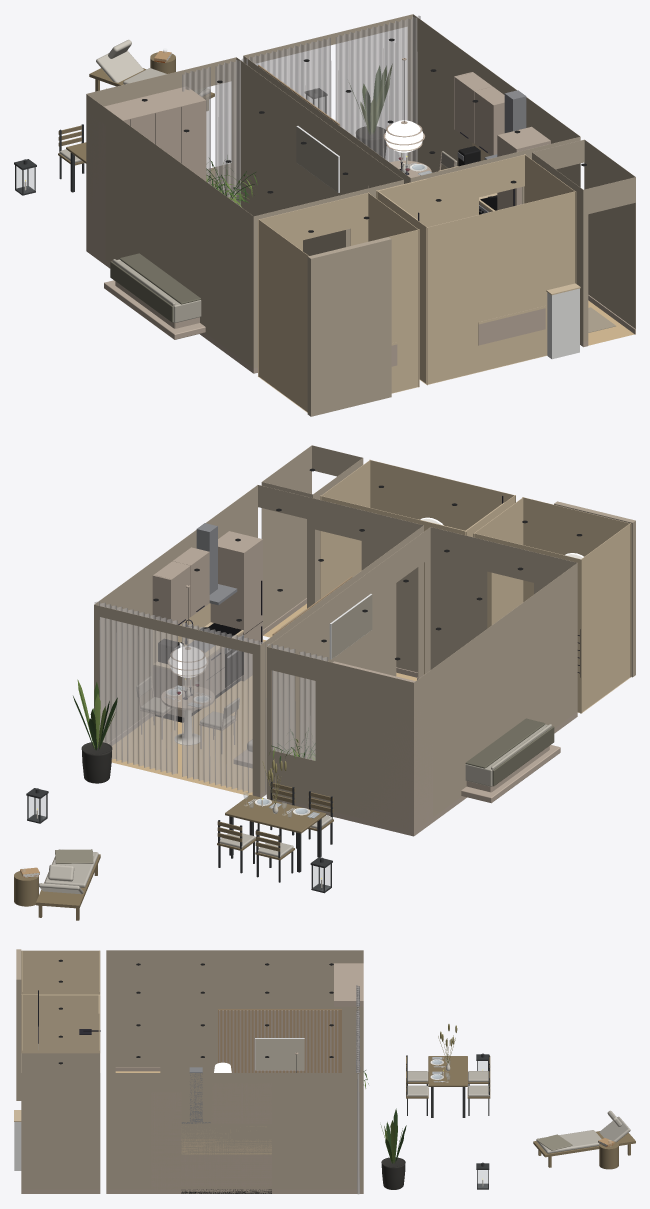
The model's file is unit-0.A-natura.glb.
3 views of the same model, one above another, from view 1: azimuth 30°, elevation 25°; view 2: azimuth 150°, elevation 25°; view 3: azimuth 270°, elevation 25° (orthographic). The views are drawn at different scales.
Visible parts, largest first — view 1: int-wall, int-bathWall, int-sheer, int-joineryTall, int-joinery, int-bedThrow, int-wood, int-whiteGloss, int-art:1:1, int-teak, int-outCushion, int-showerWall (+8 smaller); view 2: int-wall, int-bathWall, int-sheer, int-joineryTall, int-floor, int-teak, int-joinery, int-wood, int-outdoor, int-bedThrow, int-outCushion, int-skirting (+9 smaller); view 3: int-wall, int-feature, int-bathWall, int-joinery, int-wood, int-joineryTall, int-showerWall, int-teak, int-outCushion, int-skirting, int-art:2:2, int-splash (+5 smaller).
Part boxes in pixels (x1=…): int-wall: x1=86, y1=14, x2=635, y2=416; int-bathWall: x1=258, y1=154, x2=576, y2=411; int-sheer: x1=182, y1=15, x2=420, y2=206; int-joineryTall: x1=86, y1=86, x2=550, y2=366; int-joinery: x1=454, y1=72, x2=504, y2=212; int-bedThrow: x1=110, y1=253, x2=200, y2=322; int-wood: x1=104, y1=58, x2=431, y2=339; int-whiteGloss: x1=547, y1=288, x2=579, y2=359; int-art:1:1: x1=296, y1=126, x2=338, y2=192; int-teak: x1=58, y1=52, x2=214, y2=165; int-outCushion: x1=59, y1=50, x2=210, y2=162; int-showerWall: x1=376, y1=179, x2=426, y2=226; int-wall: x1=94, y1=445, x2=635, y2=830; int-bathWall: x1=320, y1=459, x2=631, y2=713; int-sheer: x1=94, y1=601, x2=328, y2=796; int-joineryTall: x1=210, y1=531, x2=432, y2=836; int-floor: x1=111, y1=639, x2=416, y2=795; int-teak: x1=14, y1=783, x2=333, y2=920; int-joinery: x1=152, y1=547, x2=242, y2=717; int-wood: x1=161, y1=585, x2=560, y2=803; int-outdoor: x1=26, y1=781, x2=332, y2=893; int-bedThrow: x1=465, y1=718, x2=554, y2=786; int-outCushion: x1=38, y1=815, x2=332, y2=894; int-skirting: x1=108, y1=598, x2=577, y2=836; int-wall: x1=16, y1=949, x2=363, y2=1189; int-feature: x1=218, y1=1009, x2=341, y2=1072; int-bathWall: x1=21, y1=950, x2=100, y2=1053; int-joinery: x1=181, y1=1083, x2=271, y2=1189; int-wood: x1=219, y1=1010, x2=338, y2=1072; int-joineryTall: x1=151, y1=963, x2=363, y2=1193; int-showerWall: x1=38, y1=995, x2=100, y2=1050; int-teak: x1=406, y1=1056, x2=635, y2=1169; int-outCushion: x1=406, y1=1071, x2=630, y2=1153; int-skirting: x1=21, y1=1067, x2=363, y2=1193; int-art:2:2: x1=255, y1=1039, x2=304, y2=1069; int-splash: x1=181, y1=1126, x2=271, y2=1153.
Bounding box in the file's own units: 6.46 × 2.92 × 12.54.
